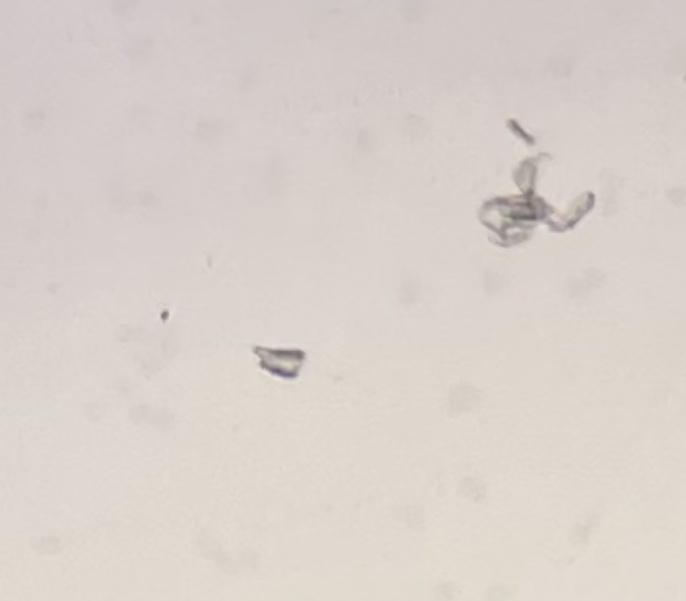microplastic: (474, 117, 596, 250), (251, 344, 308, 381)
